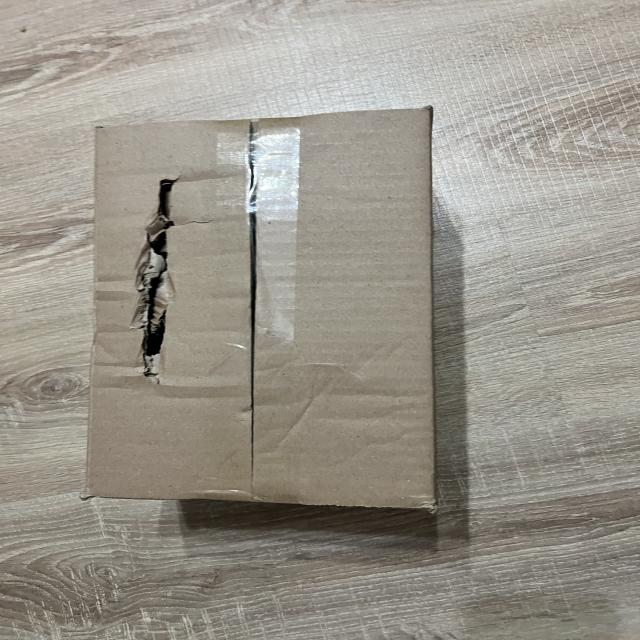damaged: (76, 110, 453, 518), (123, 168, 207, 388)
